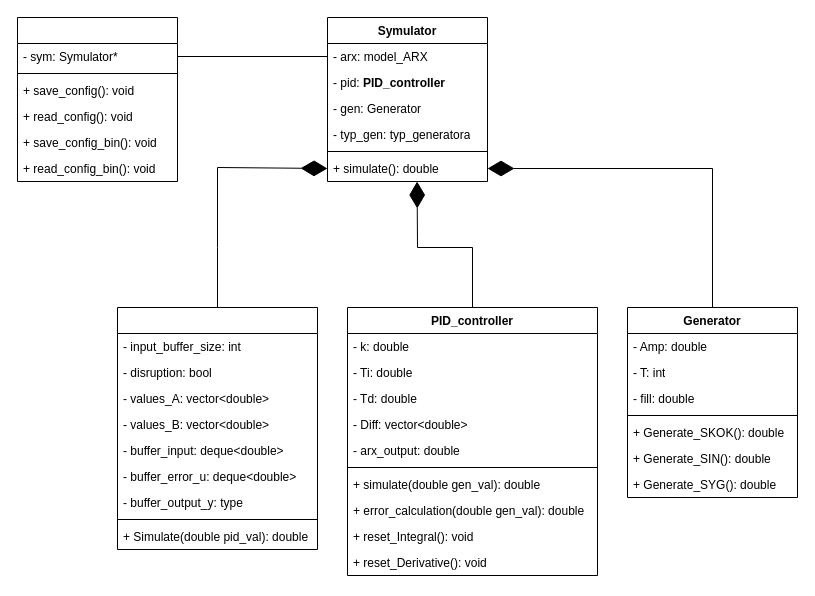
Image size: 815x596. Some labels were removed from this diagram. The shapes that lost their labels are listed below. From the top down, each one's box as (x1, y1, x2, y2) in pixels, then its label:
(16, 16, 178, 182): Plik
(116, 306, 318, 550): model_ARX
